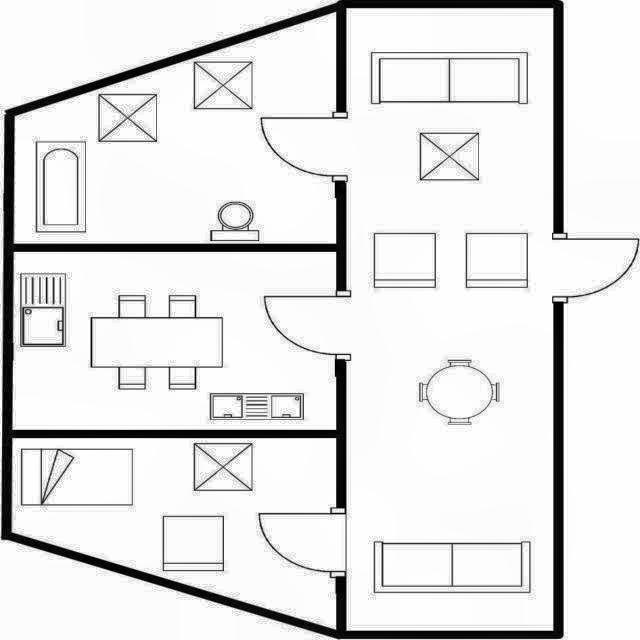room: (346, 8, 553, 631), (14, 11, 336, 243), (11, 438, 336, 630), (14, 252, 336, 430)
